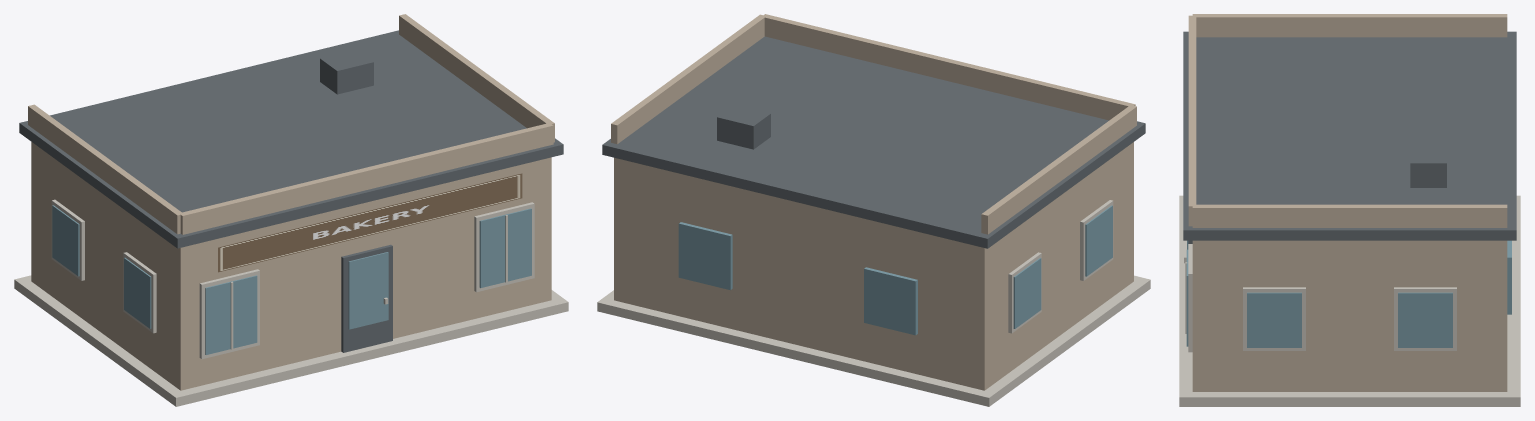
Rendered from bakery.glb.
The picture shows the model from 3 angles, left to right: view 1: azimuth 30°, elevation 25°; view 2: azimuth 150°, elevation 25°; view 3: azimuth 270°, elevation 25°; orthographic projection. The views are drawn at different scales.
Visible parts, largest first — view 1: world; view 2: world; view 3: world.
Part boxes in pixels (left/top/right/bottom): world: left=14, top=14, right=568, bottom=406; world: left=597, top=14, right=1150, bottom=406; world: left=1179, top=14, right=1520, bottom=406.
Bounding box in the file's own units: 9.1 × 4.2 × 6.5.
Materials: 2 (1 with a texture image).
